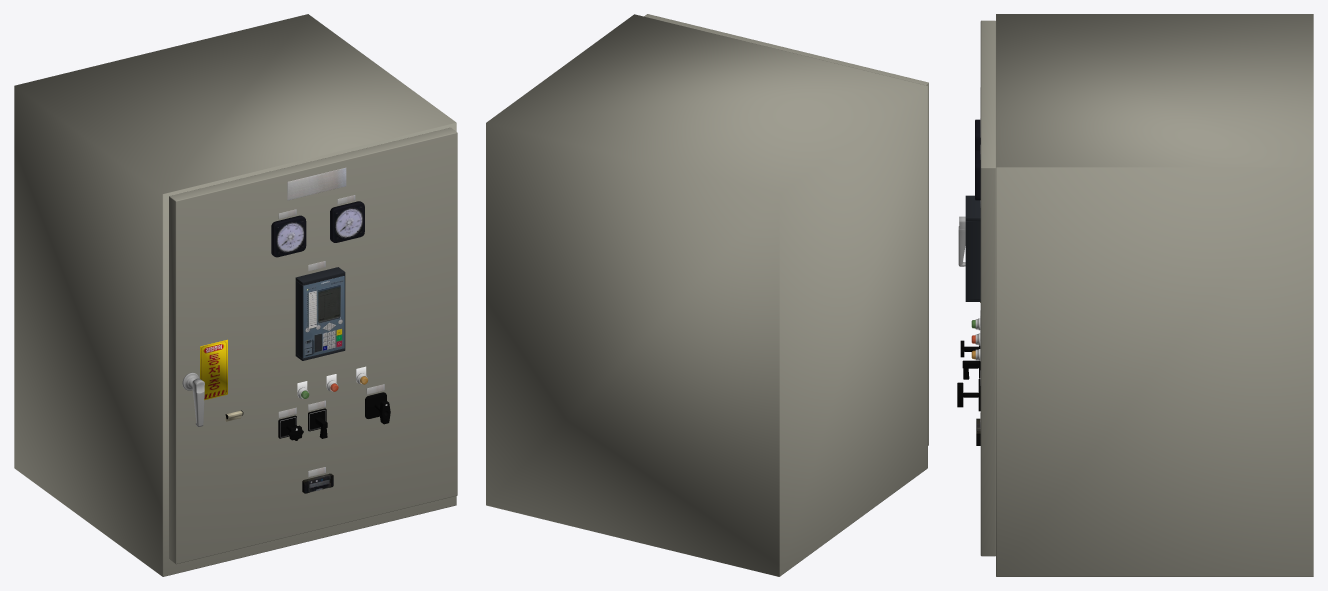
3 renders of one model, left to right at view 1: azimuth 30°, elevation 25°; view 2: azimuth 150°, elevation 25°; view 3: azimuth 270°, elevation 25°, orthographic. The views are drawn at different scales.
Visible parts, largest first — view 1: Group006, u3_door_b, Box213, warn013, Box212, u01A_dia025, u01A_dia026, u01A_np014, handle052; view 2: Group006, u3_door_b; view 3: Group006, u3_door_b, Box212.
Part boxes in pixels (<box>): Group006: <box>14,14,456,576</box>; u3_door_b: <box>169,127,457,564</box>; Box213: <box>303,276,344,358</box>; warn013: <box>200,339,227,400</box>; Box212: <box>295,267,345,360</box>; u01A_dia025: <box>271,215,306,257</box>; u01A_dia026: <box>330,201,364,242</box>; u01A_np014: <box>287,167,346,200</box>; handle052: <box>182,372,204,426</box>; Group006: <box>486,14,927,576</box>; u3_door_b: <box>644,14,928,445</box>; Group006: <box>964,14,1313,576</box>; u3_door_b: <box>980,20,995,556</box>; Box212: <box>965,195,980,301</box>.
Size of the model in its own units: 0.96 by 1.2 by 0.9424.
Materials: 19 (9 with a texture image).
